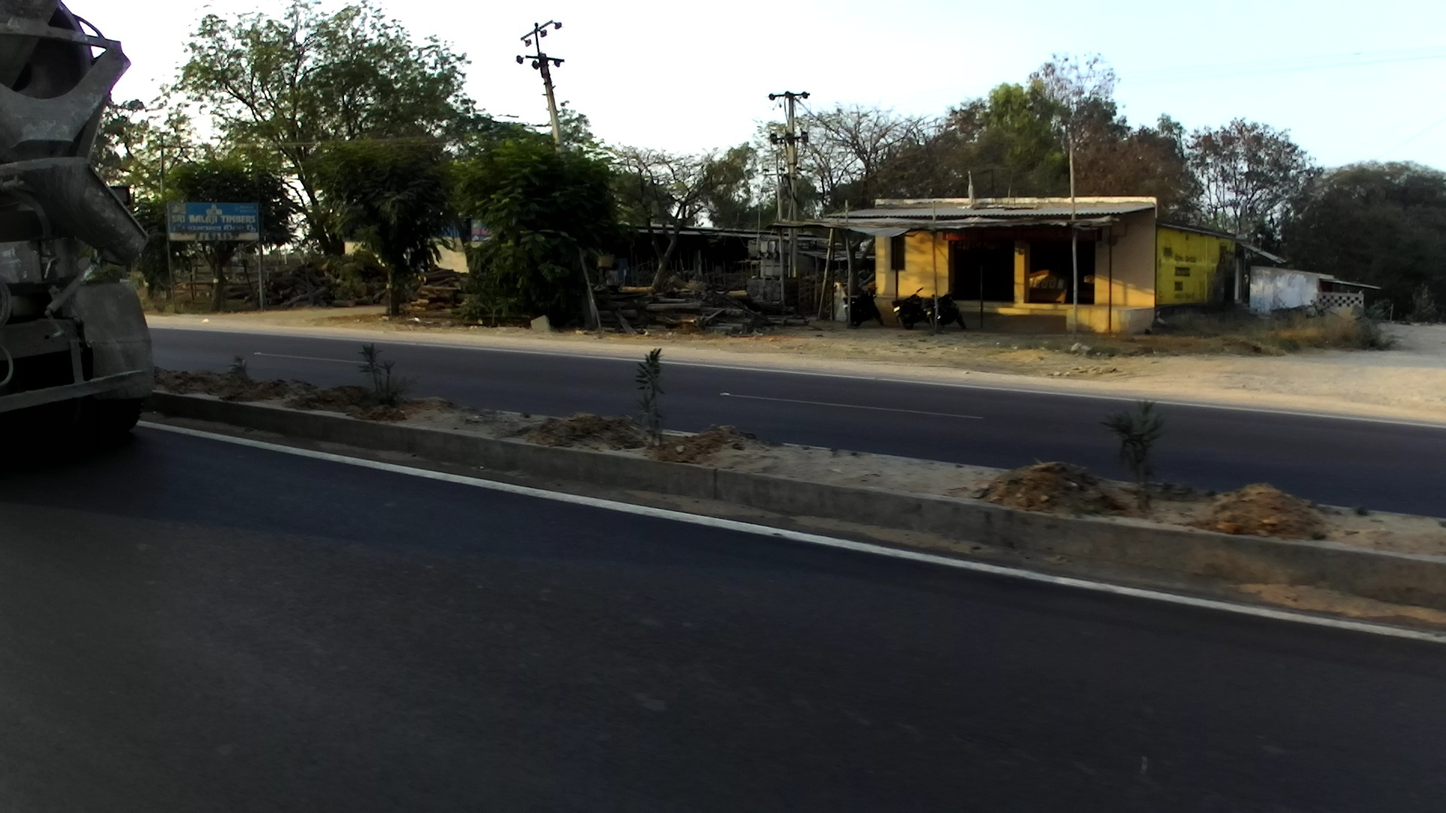motorcycle: (840, 284, 886, 330), (920, 288, 966, 333), (891, 288, 927, 330)
vehicle fallback: (1, 1, 159, 442)
